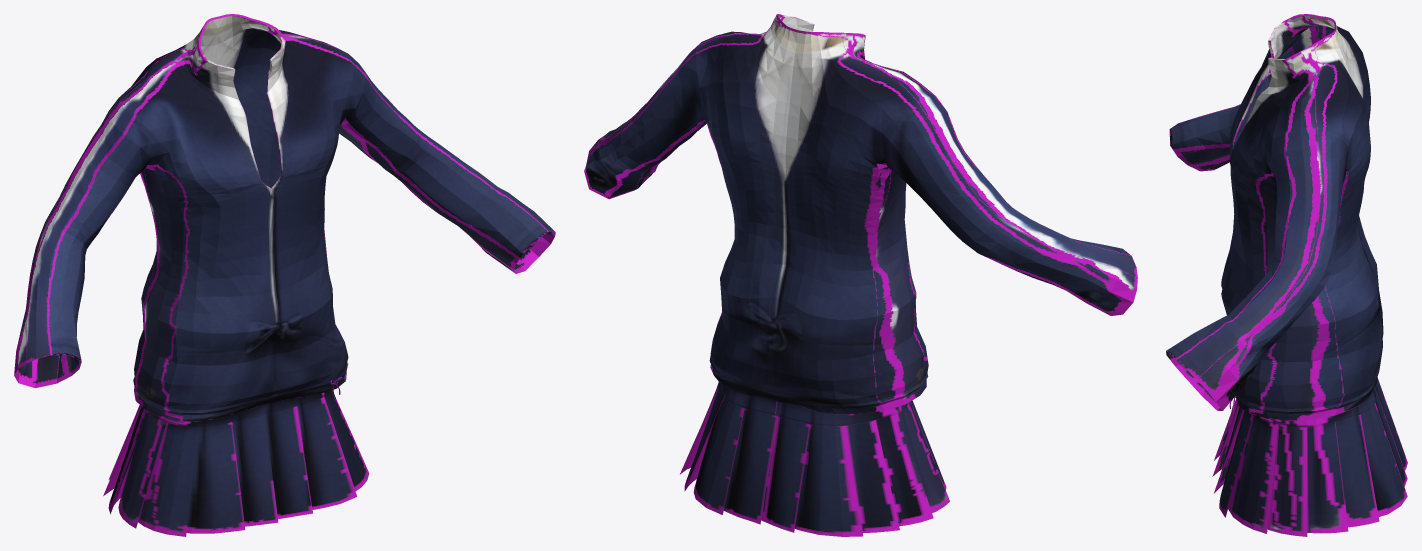
3 views of the same model, side by side, from view 1: azimuth 30°, elevation 25°; view 2: azimuth 150°, elevation 25°; view 3: azimuth 270°, elevation 25° (orthographic). The views are drawn at different scales.
Bounding box in the file's own units: 1.13 × 0.9241 × 0.4471.
Materials: 1 (1 with a texture image).
